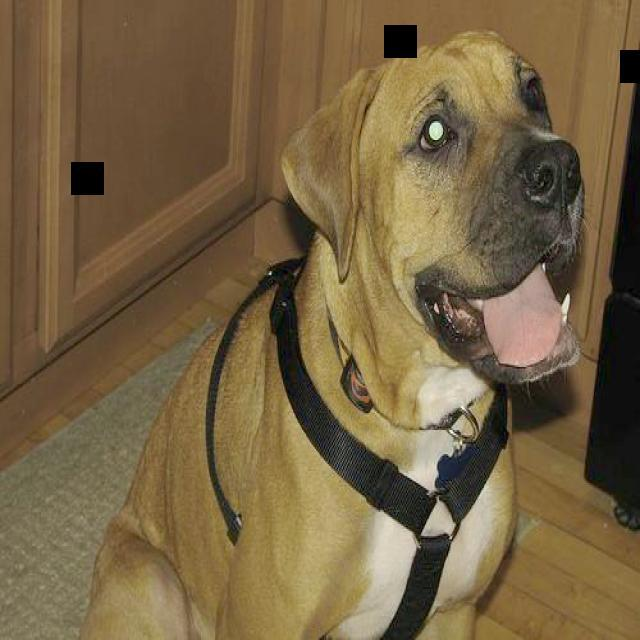adult_dog: (79, 26, 588, 640)
